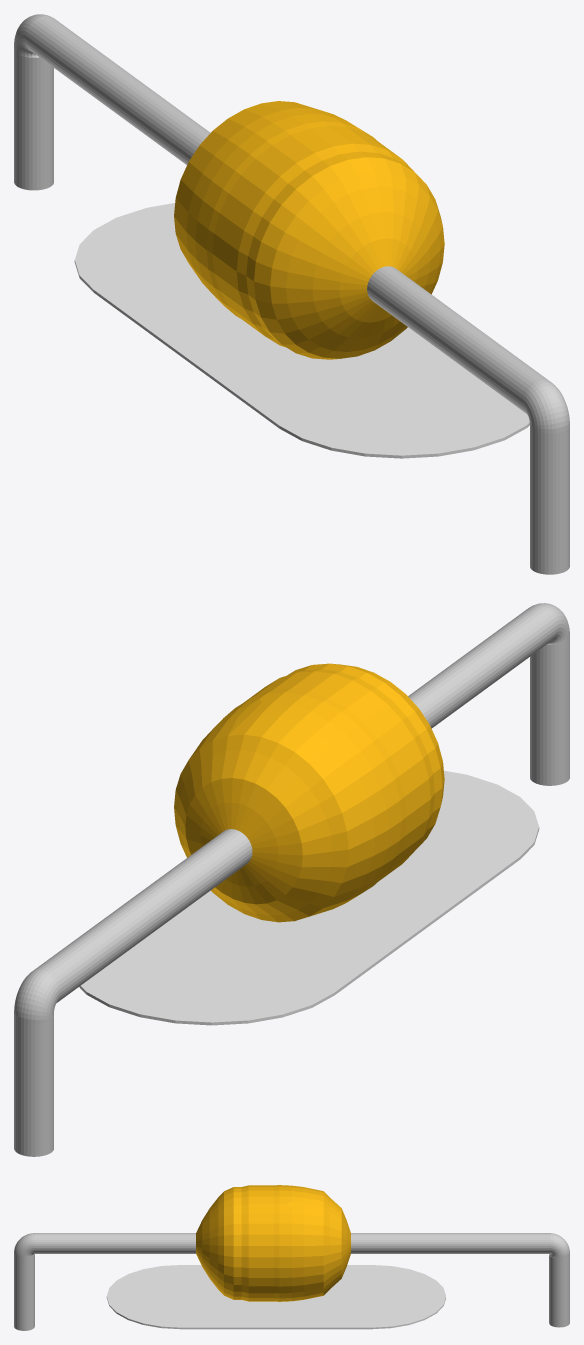
Rendered from yellow_cap_1.gltf.
The picture shows the model from 3 angles, top to bottom: view 1: azimuth 30°, elevation 25°; view 2: azimuth 150°, elevation 25°; view 3: azimuth 270°, elevation 25°; orthographic projection. The views are drawn at different scales.
Parts seen in each view (by area): view 1: yellow_cap_1, yellow_cap_1_plane; view 2: yellow_cap_1, yellow_cap_1_plane; view 3: yellow_cap_1, yellow_cap_1_plane.
Part boxes in pixels (box(x1,y1,x2,y2)): yellow_cap_1: box(14, 14, 569, 574); yellow_cap_1_plane: box(74, 203, 529, 458); yellow_cap_1: box(14, 603, 569, 1156); yellow_cap_1_plane: box(79, 770, 539, 1025); yellow_cap_1: box(14, 1185, 569, 1330); yellow_cap_1_plane: box(106, 1265, 445, 1329).
Size of the model in its own units: 0.018 by 0.0183 by 0.0676.
